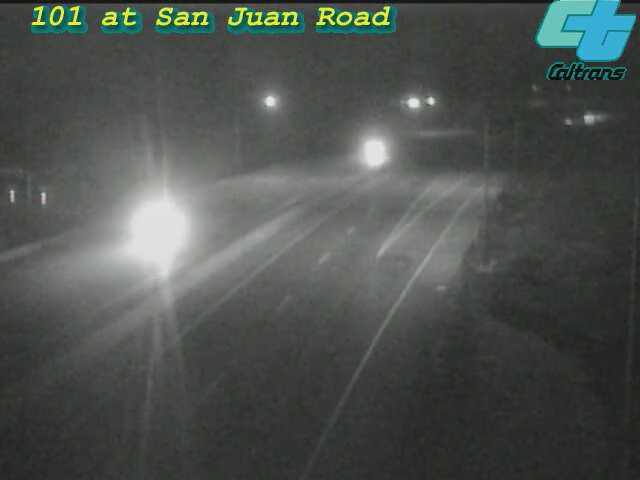vehicle: (108, 192, 188, 272), (333, 112, 413, 192), (573, 91, 623, 141)
